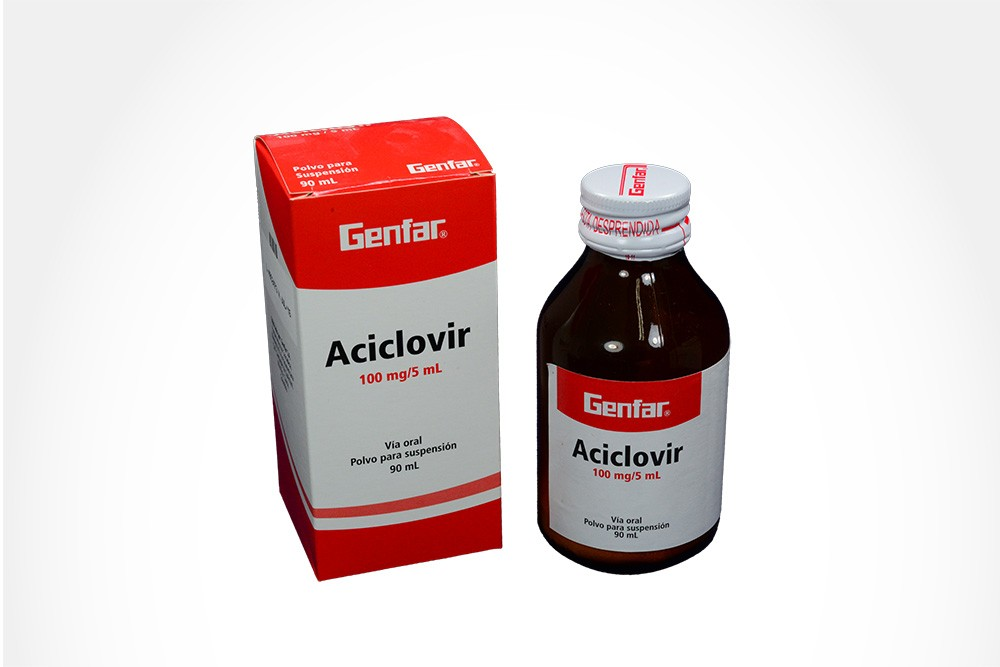Genfar: (300, 182, 499, 581)
